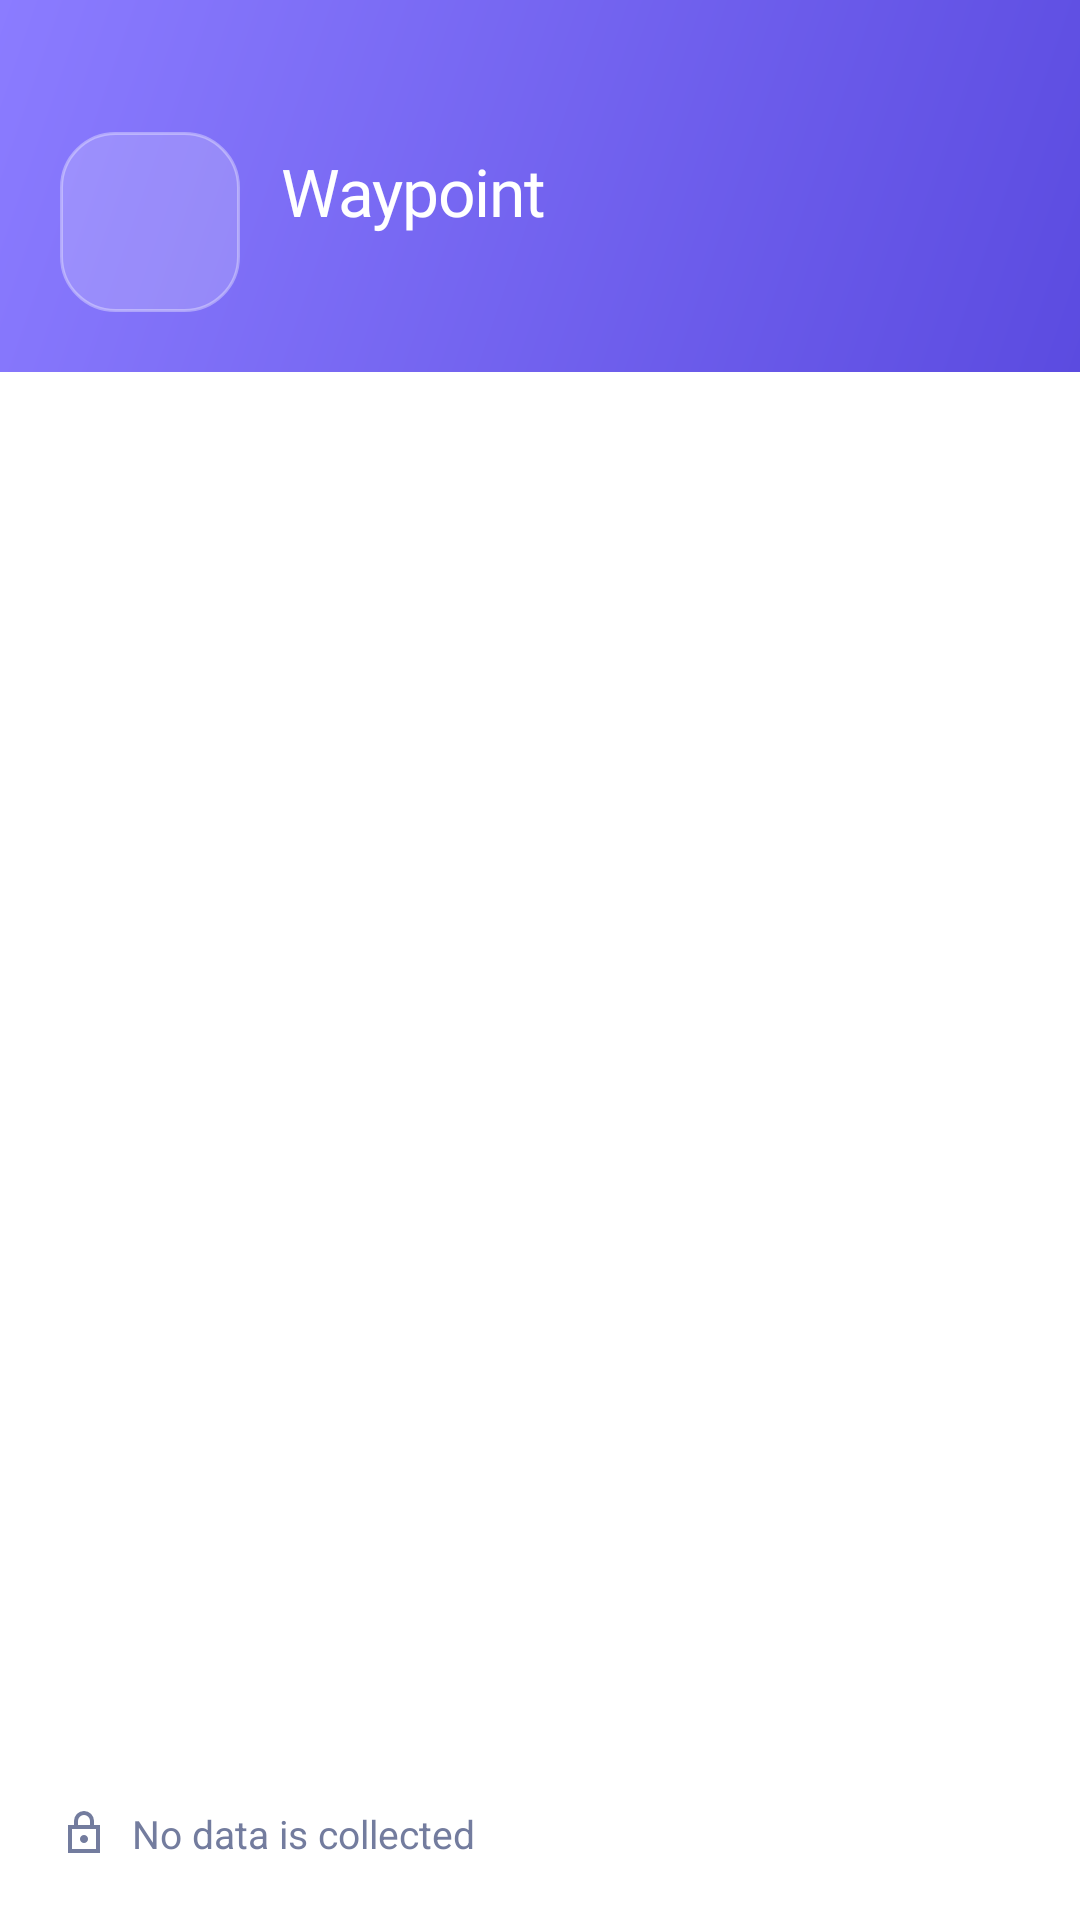

Screen size 1080 × 1920. Icon name, then its center in pixels as point (x, y):
lock: point (84, 1832)
